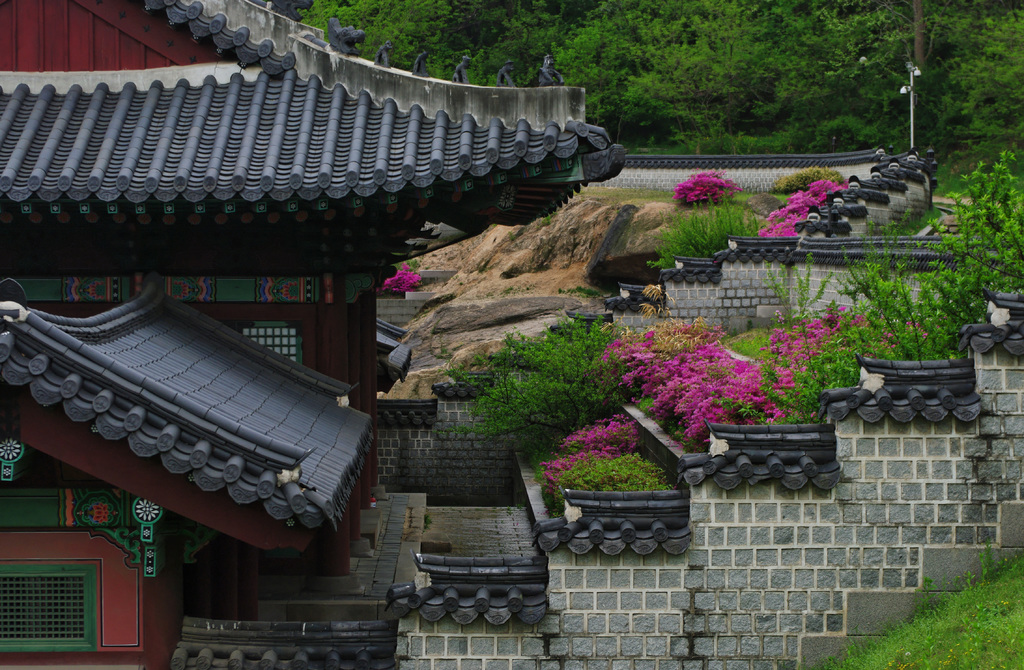Tree: (560, 0, 1023, 153), (427, 316, 652, 446), (288, 6, 582, 85)
